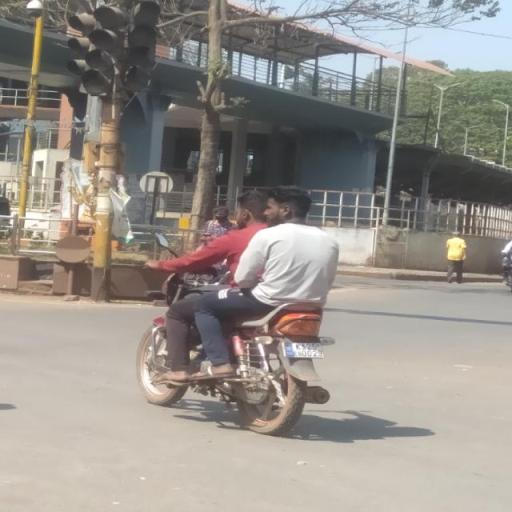bike: (132, 179, 338, 438)
numberplate: (286, 341, 322, 359)
withouthelmet: (269, 186, 310, 224), (234, 192, 268, 230)
